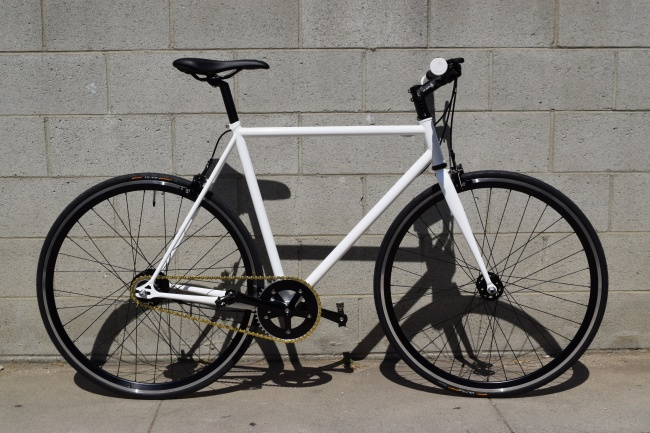MNV: (36, 57, 608, 398)
